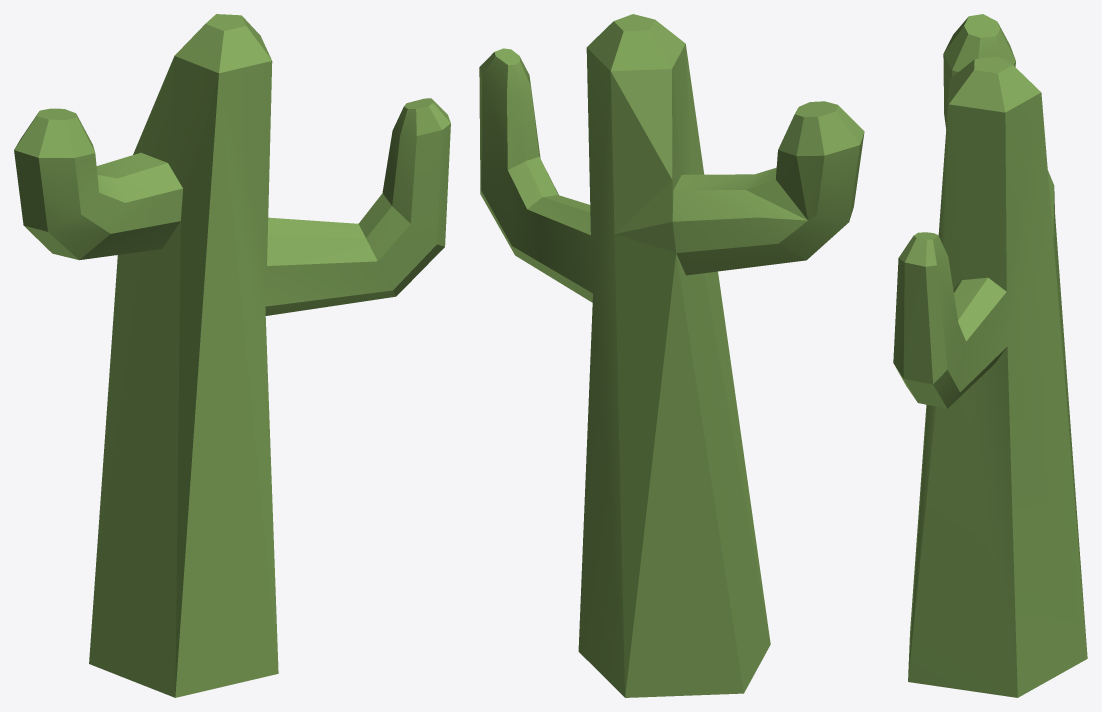
Rendered from Vegetation_Cactus_02.fbx.
The picture shows the model from 3 angles, left to right: view 1: azimuth 30°, elevation 25°; view 2: azimuth 150°, elevation 25°; view 3: azimuth 270°, elevation 25°; orthographic projection. The views are drawn at different scales.
Parts seen in each view (by area): view 1: Vegetation_Cactus_02; view 2: Vegetation_Cactus_02; view 3: Vegetation_Cactus_02.
Part boxes in pixels (x1,y1,x2,y2): Vegetation_Cactus_02: (14,14,450,697); Vegetation_Cactus_02: (479,14,864,697); Vegetation_Cactus_02: (893,14,1087,697).
Bounding box in the file's own units: 46.25 × 67.89 × 19.52.
